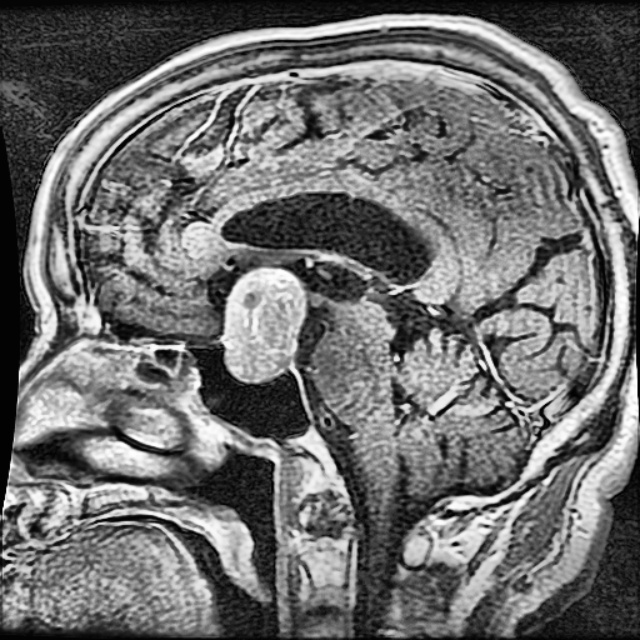Pituitary: (222, 265, 307, 380)
